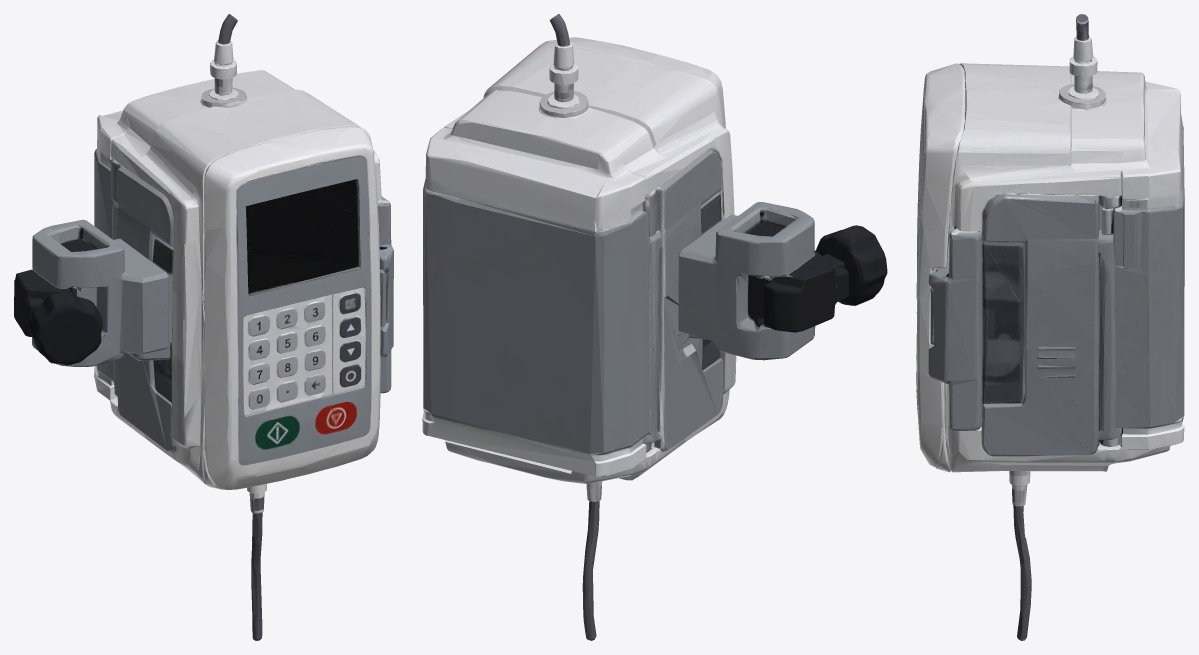
File: pump.glb
3 views of the same model, side by side, from view 1: azimuth 30°, elevation 25°; view 2: azimuth 150°, elevation 25°; view 3: azimuth 270°, elevation 25° (orthographic). The views are drawn at different scales.
Parts seen in each view (by area): view 1: output_unwrapped; view 2: output_unwrapped; view 3: output_unwrapped.
Boxes of the visible parts, bbox=[...] form: output_unwrapped: bbox=[14, 14, 393, 640]; output_unwrapped: bbox=[422, 14, 887, 640]; output_unwrapped: bbox=[916, 14, 1184, 640].
Bounding box in the file's own units: 1.15 × 1.9 × 0.7374.
Materials: 1 (1 with a texture image).
